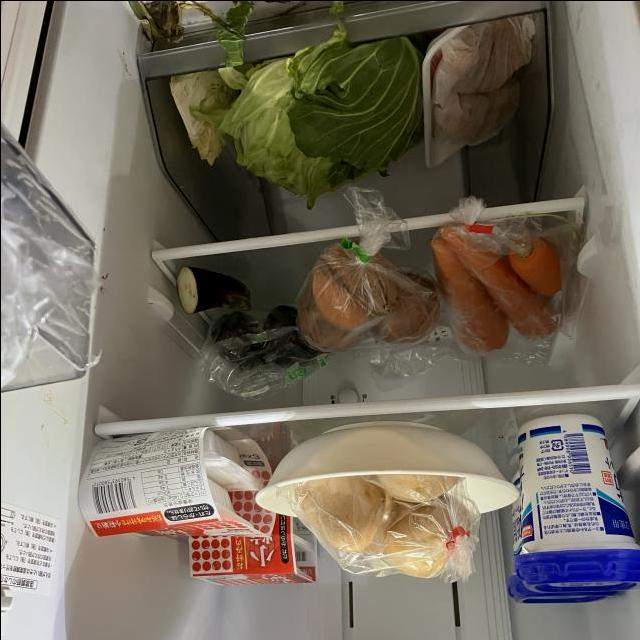cabbage: (218, 15, 424, 207), (166, 61, 223, 170)
carrot: (436, 221, 559, 341), (429, 239, 509, 353), (507, 232, 564, 298)
eggplant: (174, 262, 254, 319), (208, 313, 276, 371), (262, 303, 317, 367)
onion: (311, 239, 400, 332), (295, 275, 368, 352), (371, 268, 442, 345)
